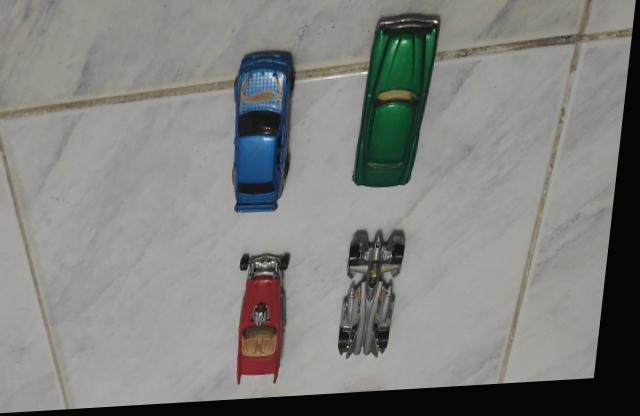03_V8: (244, 254, 299, 388)
04_MERZEDES: (236, 51, 299, 217)
05_DC121: (345, 233, 413, 363)
06_MASERATI: (356, 17, 442, 192)
